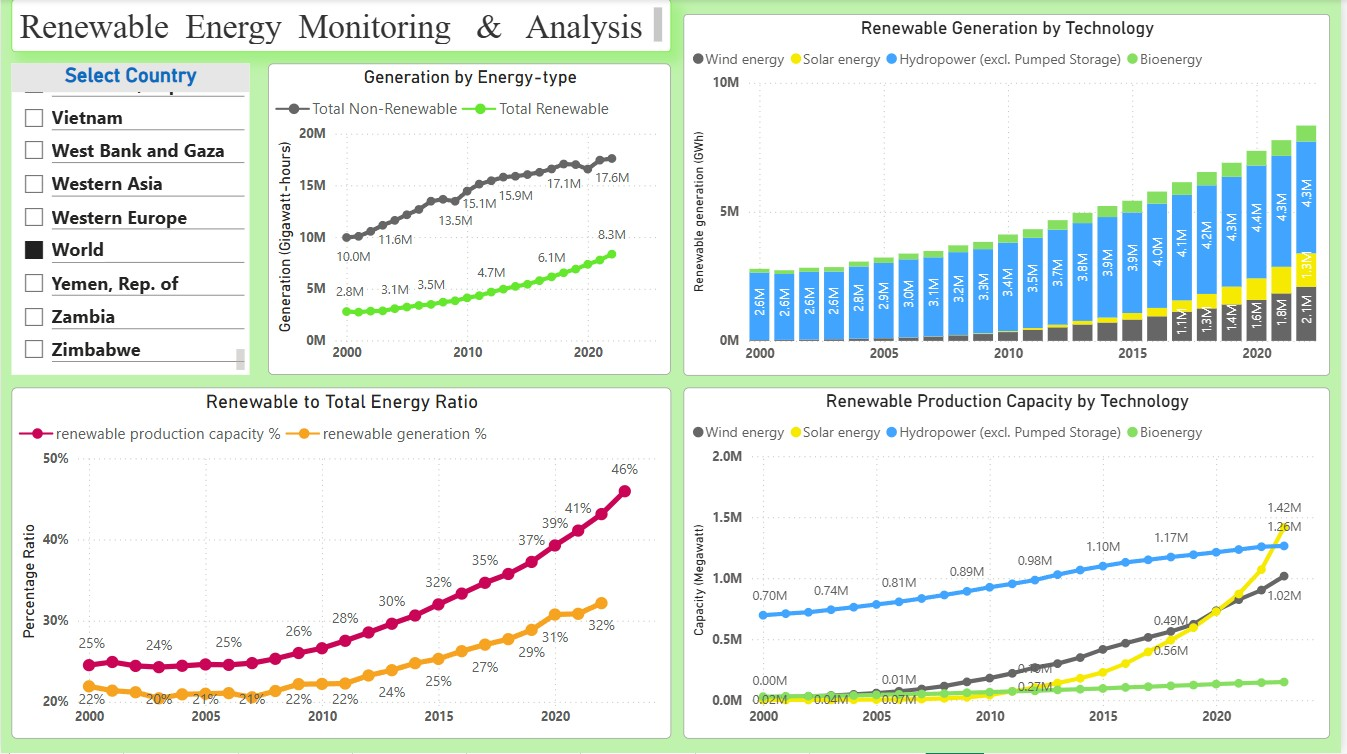

The page's visual inventory and layout, read from the dashboard file:
{"tool":"powerbi","page":{"name":"Page 8","canvas":[1280,720],"ordinal":7},"visuals":[{"type":"textbox","box":[9.5,0,629.9,50.9],"z":0},{"type":"lineChart","title":"Renewable to Total Energy Ratio","fields":{"Category":["Renewable_Energy.Year"],"Y":["Renewable_Energy.renewable production capacity %","Renewable_Energy.renewable generation %"]},"box":[9.5,370.6,629.9,335.6],"z":1},{"type":"lineChart","title":"Generation by Energy-type","fields":{"Category":["Renewable_Energy.Year"],"Y":["Renewable_Energy.generation"],"Series":["Renewable_Energy.Energy_Type"]},"box":[254.5,62,384.9,297.4],"z":2},{"type":"columnChart","title":"Renewable Generation by Technology","fields":{"Category":["Renewable_Energy.Year"],"Y":["Renewable_Energy.renewable generation"],"Series":["Renewable_Energy.Technology"]},"box":[652.2,14.3,617.2,345.2],"z":3},{"type":"lineChart","title":"Renewable Production Capacity by Technology","fields":{"Category":["Renewable_Energy.Year"],"Series":["Renewable_Energy.Technology"],"Y":["Renewable_Energy.renewable production capacity"]},"box":[652.2,370.6,617.2,335.6],"z":4},{"type":"slicer","title":" Select Country","fields":{"Values":["Renewable_Energy.Country"]},"box":[9.5,62,227.5,297.4],"z":5}]}

Visuals, with their boxes in screenshot pixels (x1, y1, x2, y2), scaled from the page's 1280x720 canvas onto the 1347x754 screenshot:
textbox: <region>10, 0, 673, 53</region>
"Renewable to Total Energy Ratio" lineChart: <region>10, 388, 673, 740</region>
"Generation by Energy-type" lineChart: <region>268, 65, 673, 376</region>
"Renewable Generation by Technology" columnChart: <region>686, 15, 1336, 376</region>
"Renewable Production Capacity by Technology" lineChart: <region>686, 388, 1336, 740</region>
" Select Country" slicer: <region>10, 65, 249, 376</region>
